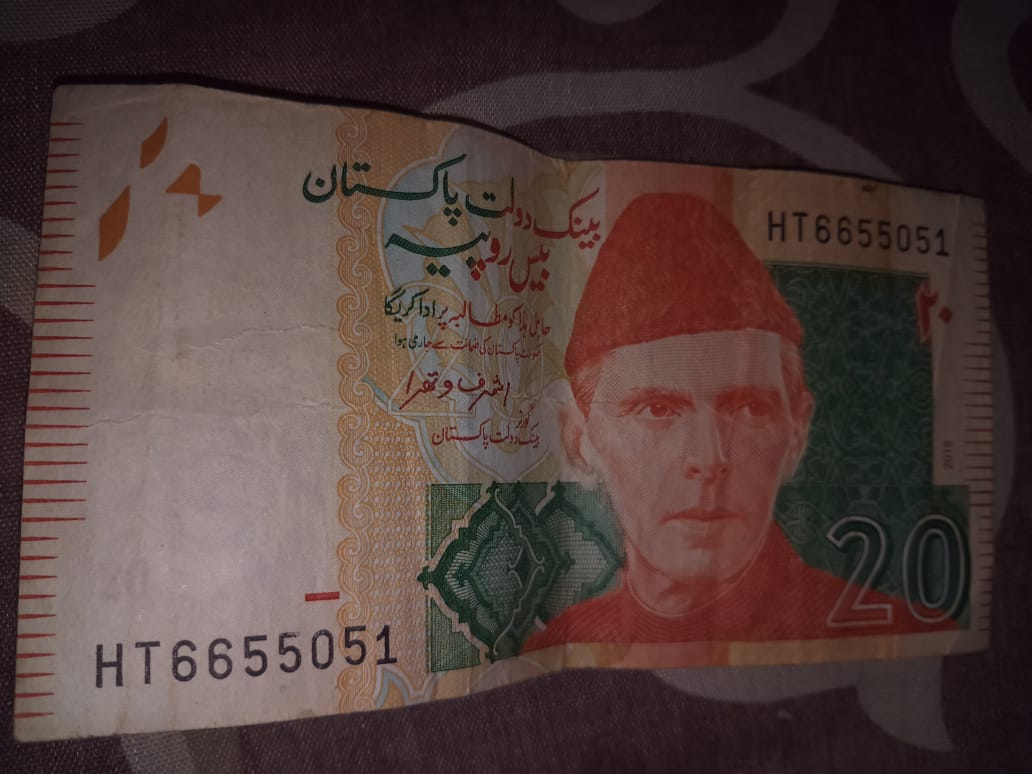20 rupee: (9, 68, 1005, 721)
